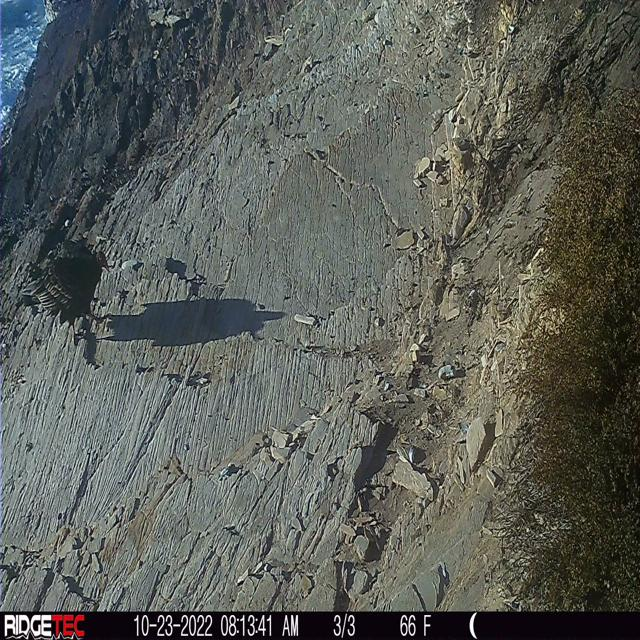bird: (20, 235, 124, 346)
